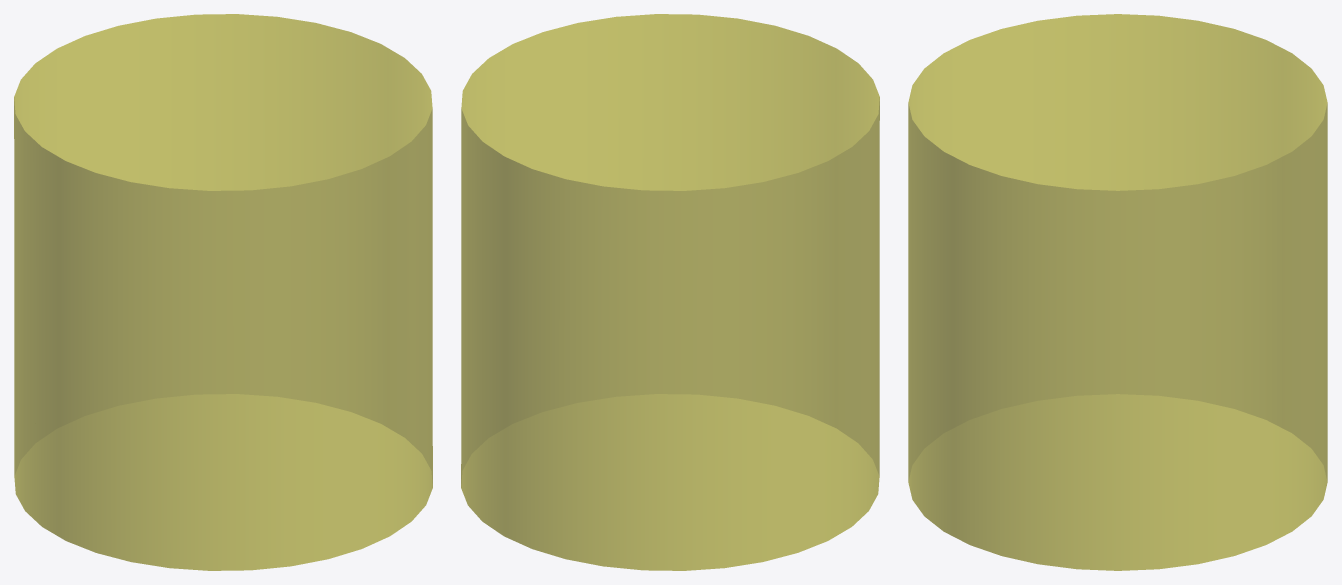
Rendered from Cilindro.obj.
3 views of the same model, side by side, from view 1: azimuth 30°, elevation 25°; view 2: azimuth 150°, elevation 25°; view 3: azimuth 270°, elevation 25° (orthographic).
Parts seen in each view (by area): view 1: Cylinder_Cylinder.001; view 2: Cylinder_Cylinder.001; view 3: Cylinder_Cylinder.001.
Boxes of the visible parts, x1=… form: Cylinder_Cylinder.001: x1=14, y1=14, x2=432, y2=570; Cylinder_Cylinder.001: x1=461, y1=14, x2=879, y2=570; Cylinder_Cylinder.001: x1=908, y1=14, x2=1327, y2=570.
Bounding box in the file's own units: 1 × 1 × 1.
